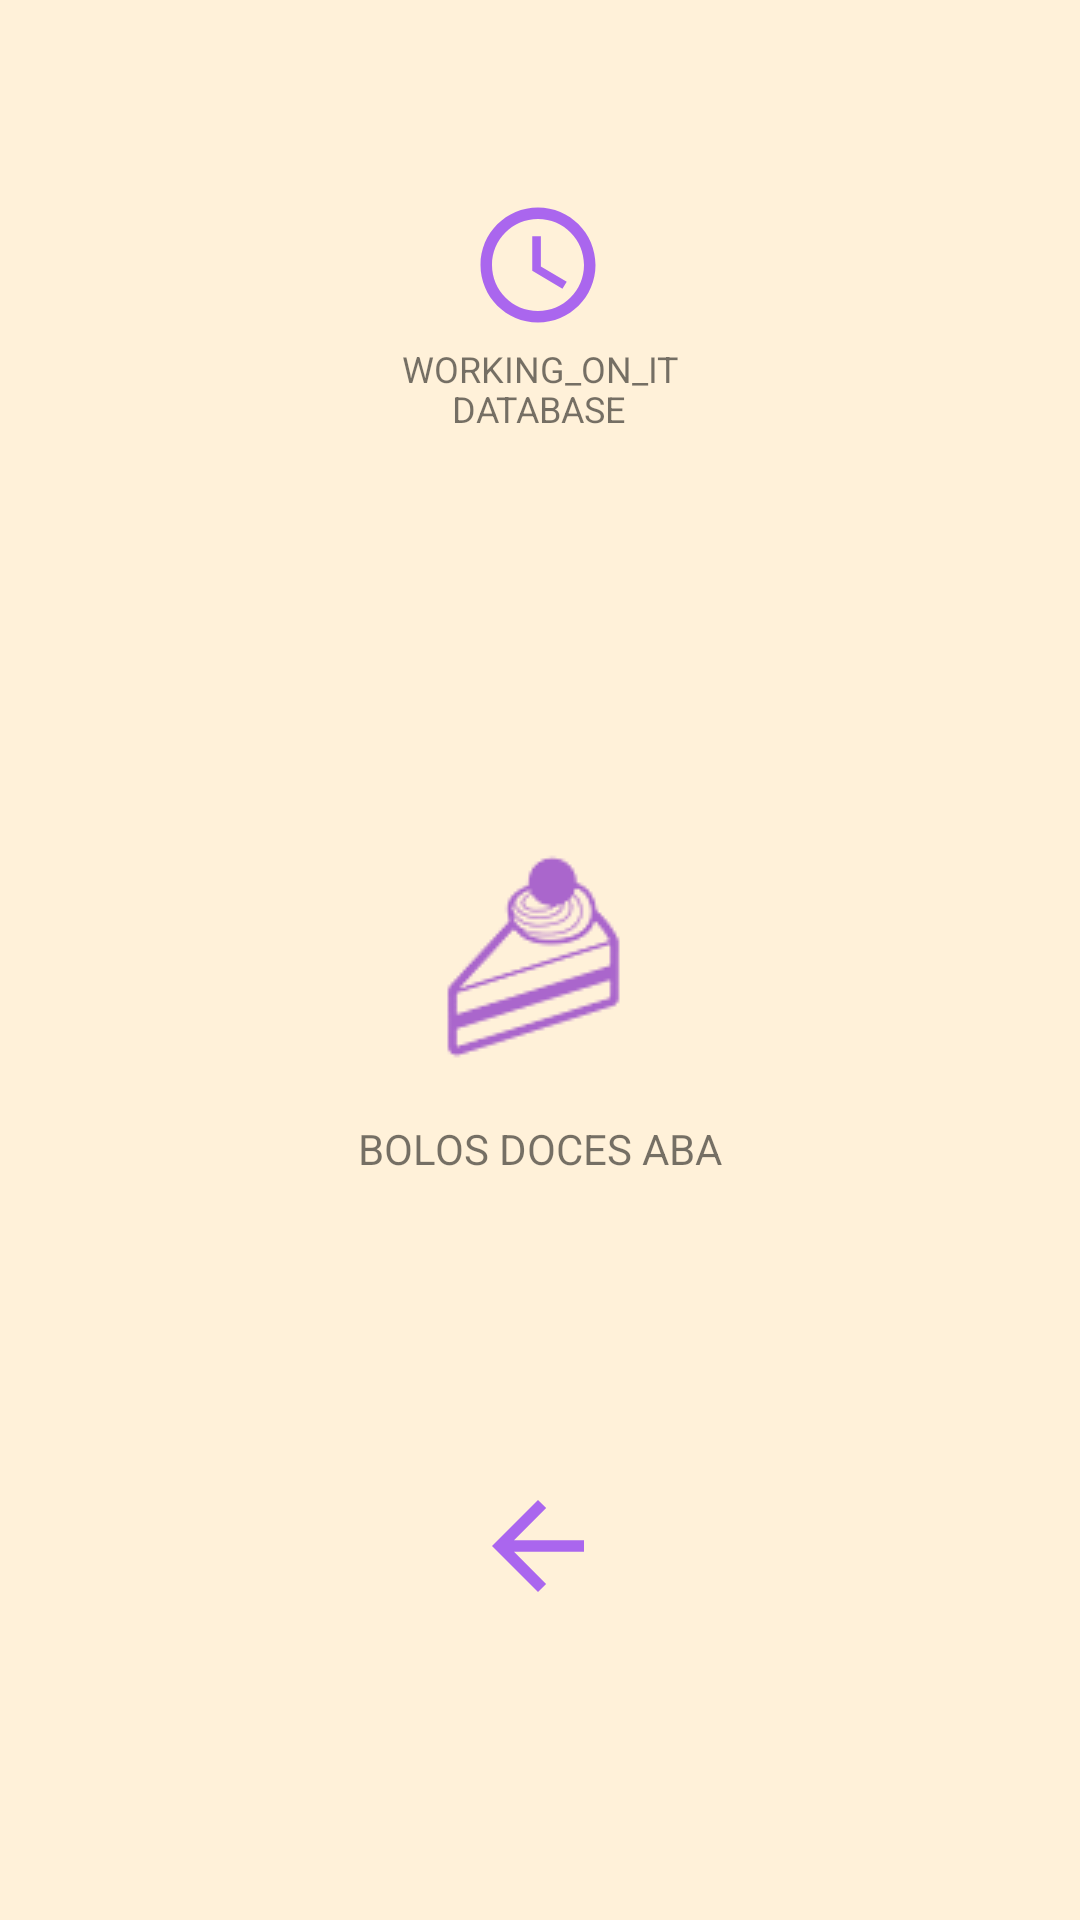

Named icons in this screenshot (1080px x 1920px) and their centers, point (x, y):
back arrow: point (538, 1546)
bolo doce: point (533, 957)
timer: point (538, 265)
